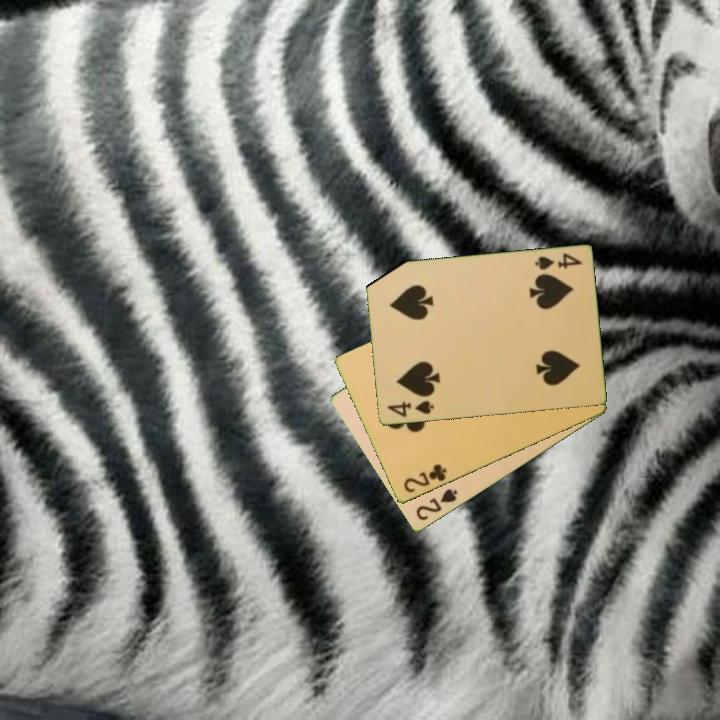2c: (400, 461, 450, 496)
2s: (412, 485, 461, 524)
4s: (531, 250, 585, 273), (383, 397, 436, 420)
